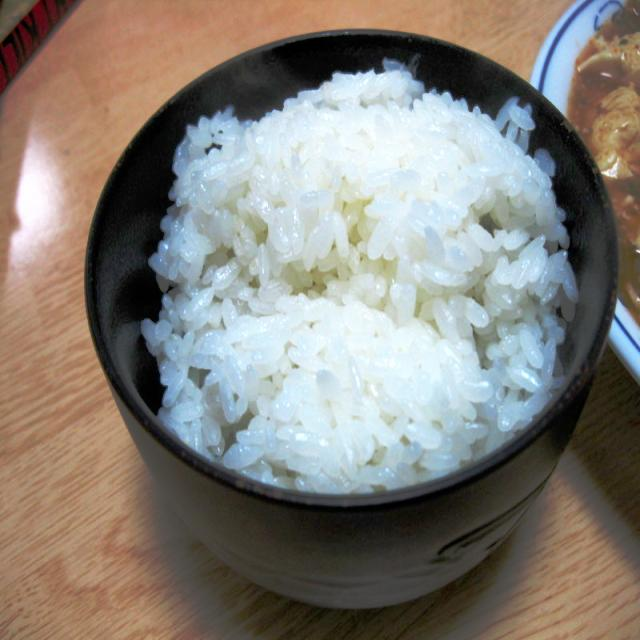rice: (140, 56, 578, 495)
